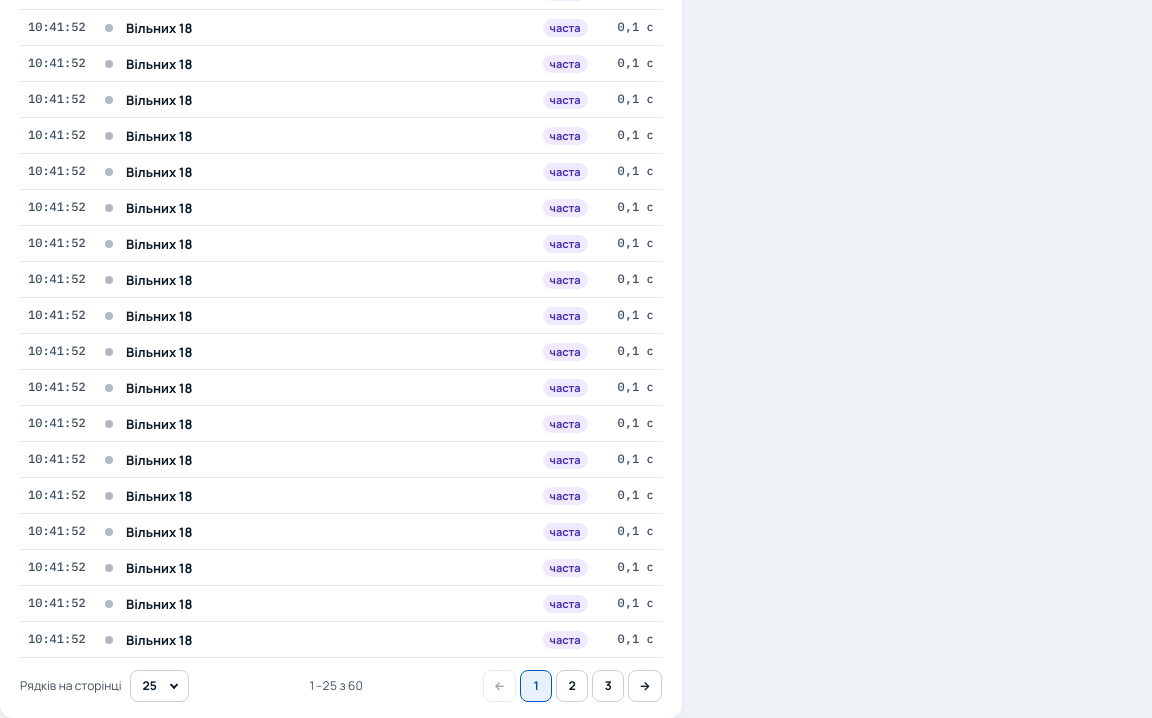
Test: MonitoringView › pages the log: range, numbered pages and the next page request
(page scrolled)
Check: the text "1–25 з 60" is shown, box [308, 678, 363, 695]
Click the button named "Сторінка 2": (572, 686) [556, 670, 588, 702]
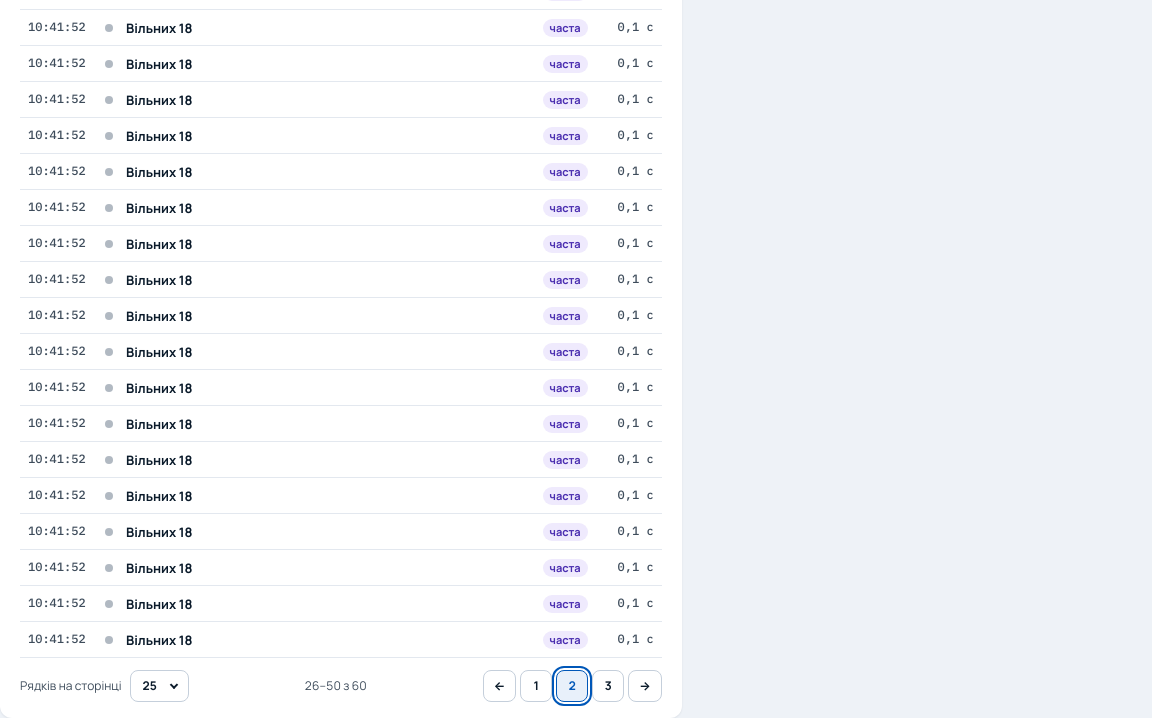
Check: the text "26–50 з 60" is shown, box [305, 678, 367, 695]
